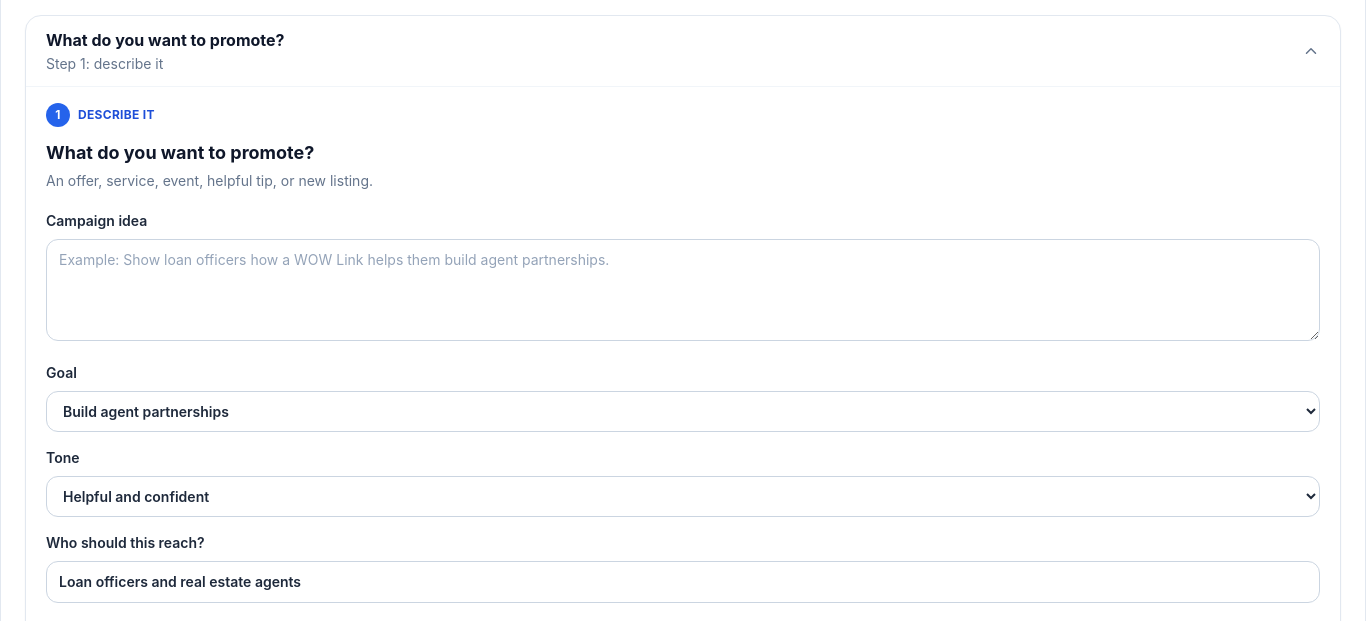
Scenario: saves a brief before generating, then opens editable draft review
Replace the text in the text box labelled "Campaign idea" with "A new tool for this new market": (683, 290) [46,239,1320,341]
(page scrolled)
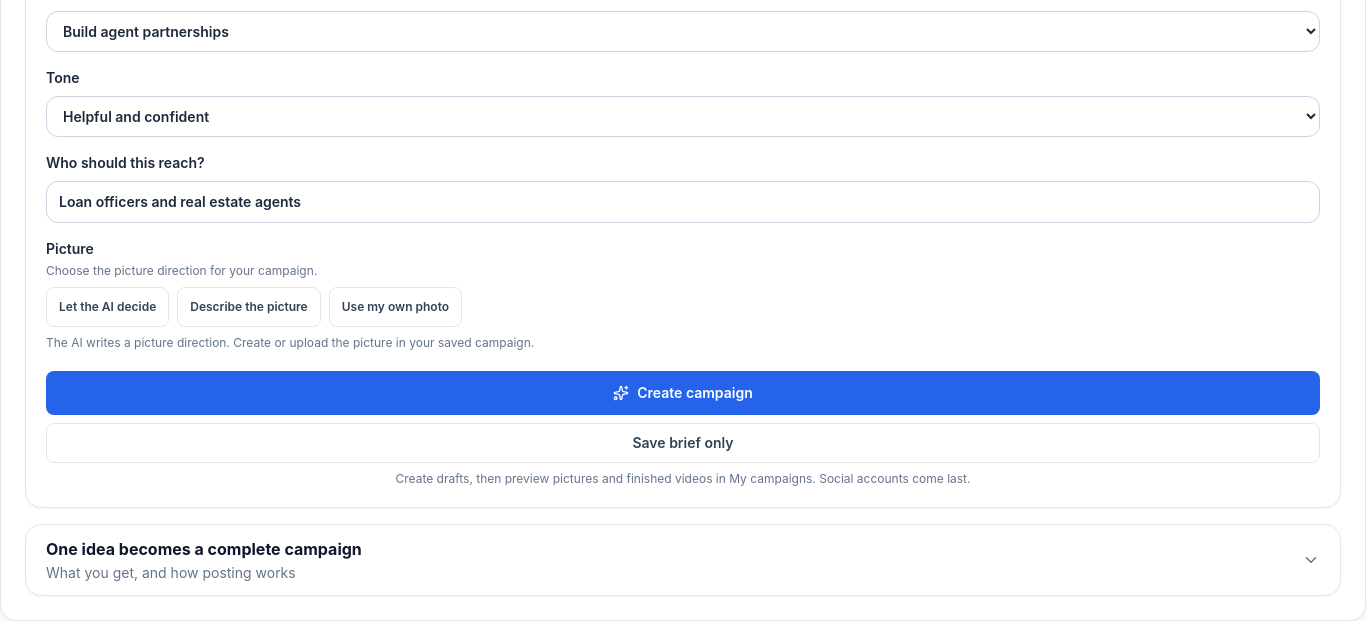
Click the button "Create campaign": (683, 393) [46,371,1320,415]
(page scrolled)
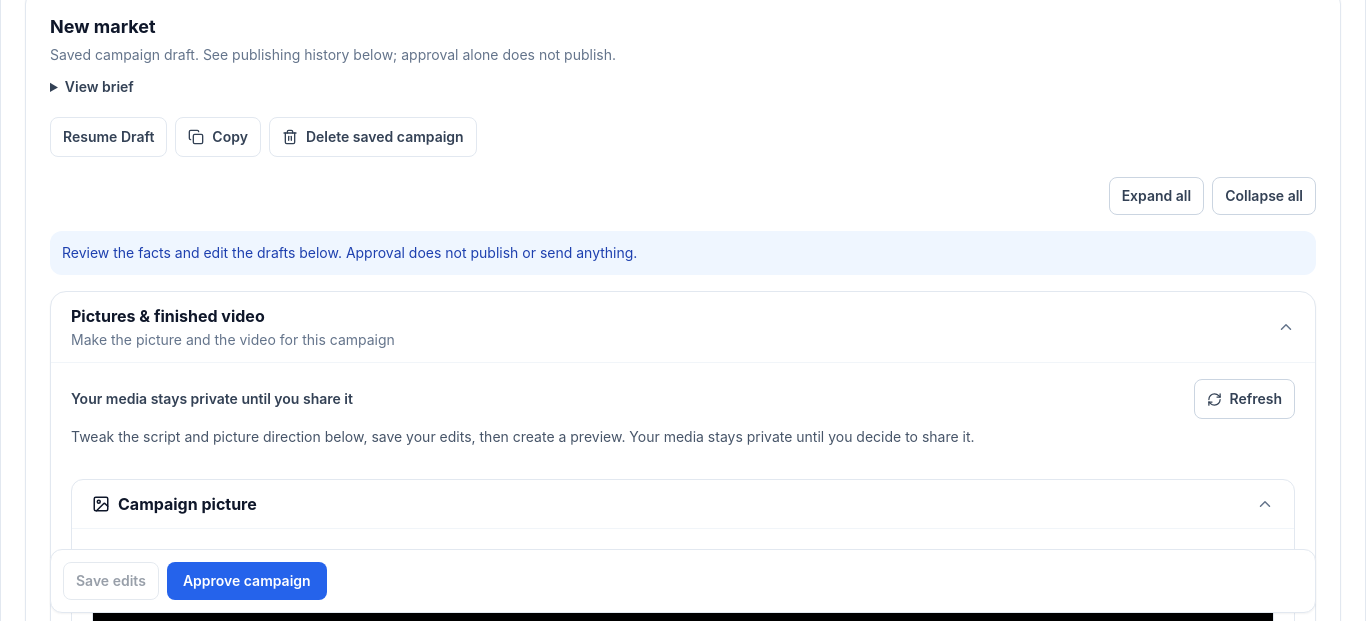
Expected: the text "Approval does not publish" is shown, [62,244,637,261]
